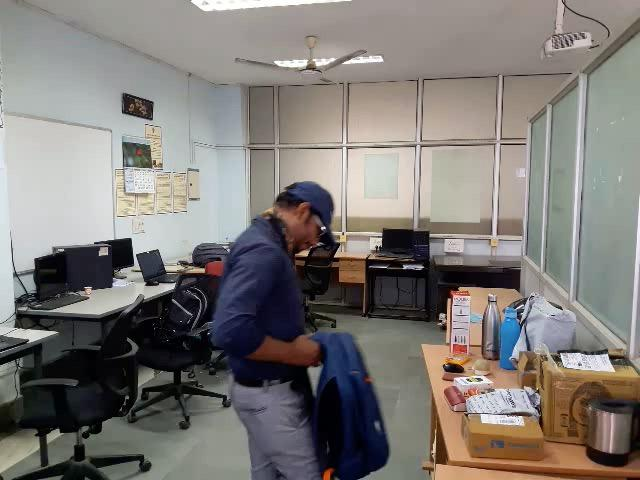shoplifting: (208, 252, 411, 480)
